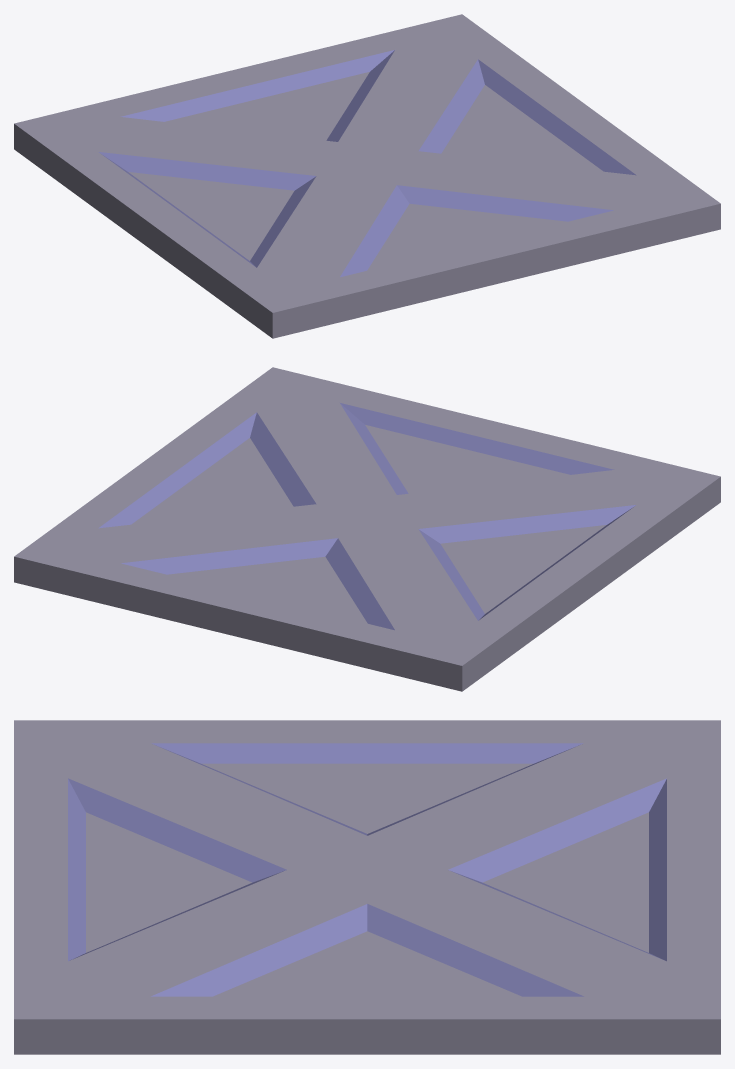
The model's file is TileCross.fbx.
3 views of the same model, one above another, from view 1: azimuth 30°, elevation 25°; view 2: azimuth 150°, elevation 25°; view 3: azimuth 270°, elevation 25° (orthographic). The views are drawn at different scales.
Visible parts, largest first — view 1: TileCross; view 2: TileCross; view 3: TileCross.
Part boxes in pixels (x1=…): TileCross: x1=14, y1=14, x2=720, y2=338; TileCross: x1=14, y1=367, x2=720, y2=691; TileCross: x1=14, y1=720, x2=720, y2=1054.
Bounding box in the file's own units: 100 × 5.5 × 100.
